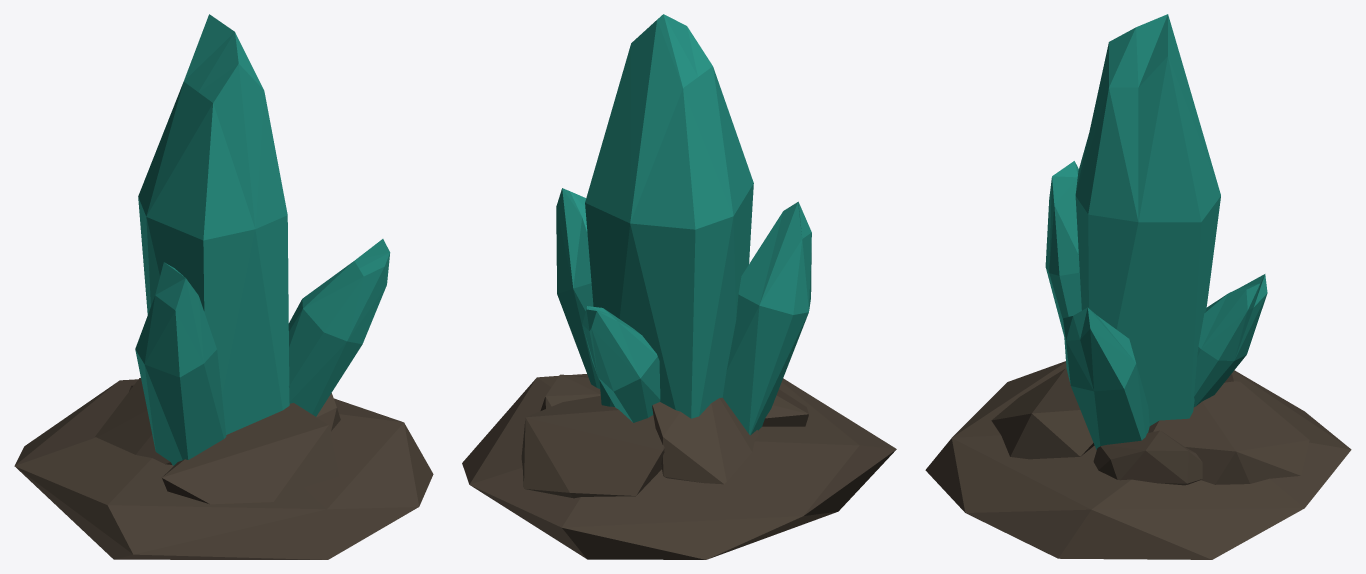
Rendered from mine2.obj.
The picture shows the model from 3 angles, left to right: view 1: azimuth 30°, elevation 25°; view 2: azimuth 150°, elevation 25°; view 3: azimuth 270°, elevation 25°; orthographic projection.
Visible parts, largest first — view 1: Crystal2_Icosphere.025; view 2: Crystal2_Icosphere.025; view 3: Crystal2_Icosphere.025.
Part boxes in pixels (x1,y1,x2,y2): Crystal2_Icosphere.025: (14, 14, 433, 559); Crystal2_Icosphere.025: (462, 14, 896, 559); Crystal2_Icosphere.025: (925, 14, 1351, 559).
Bounding box in the file's own units: 1.09 × 1.48 × 1.18.
